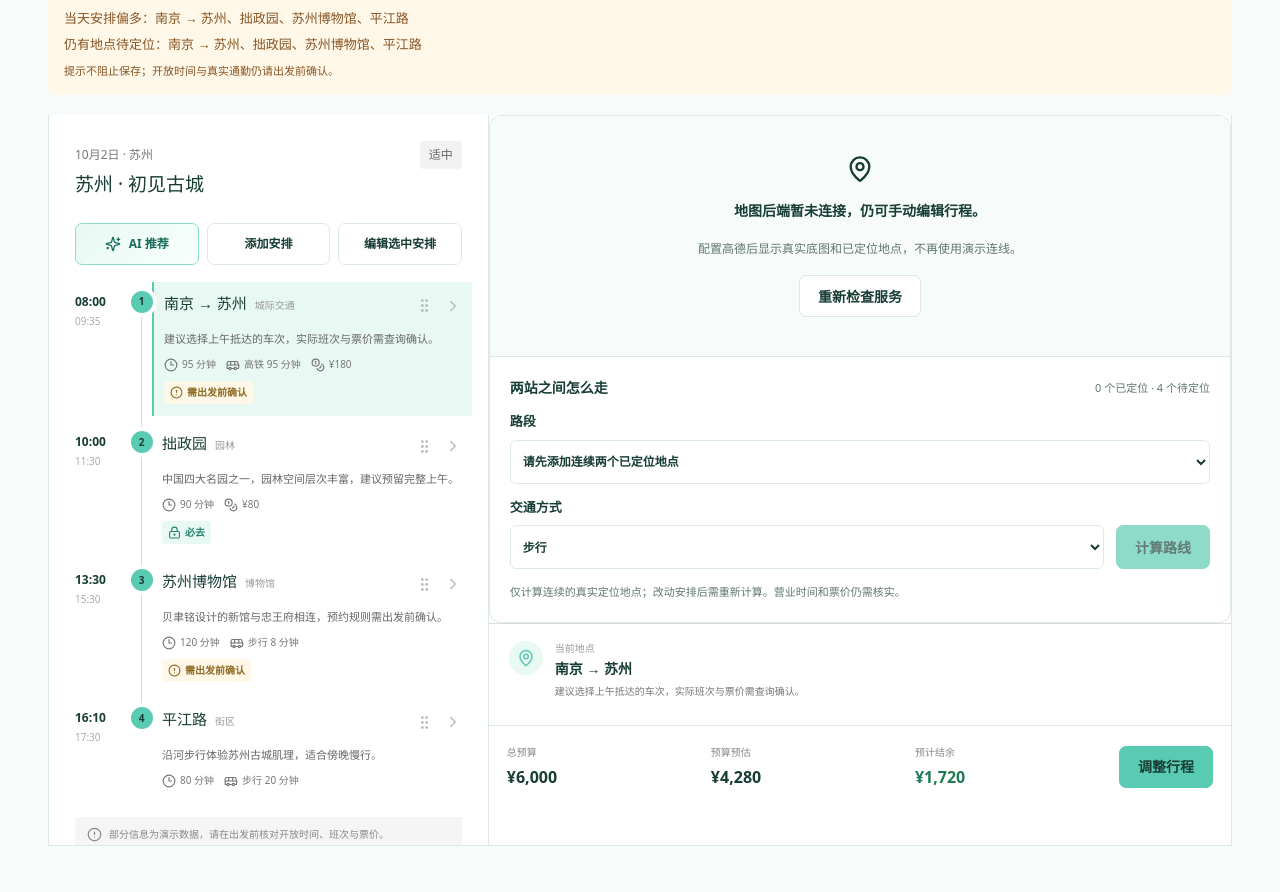
Test: 城市重排会关闭编辑器，避免替换错误的城市地点
This screenshot has width=1280, height=892.
(page scrolled)
Click the button "调整行程" at point(1166, 767), box [1119, 746, 1213, 788]
(page scrolled)
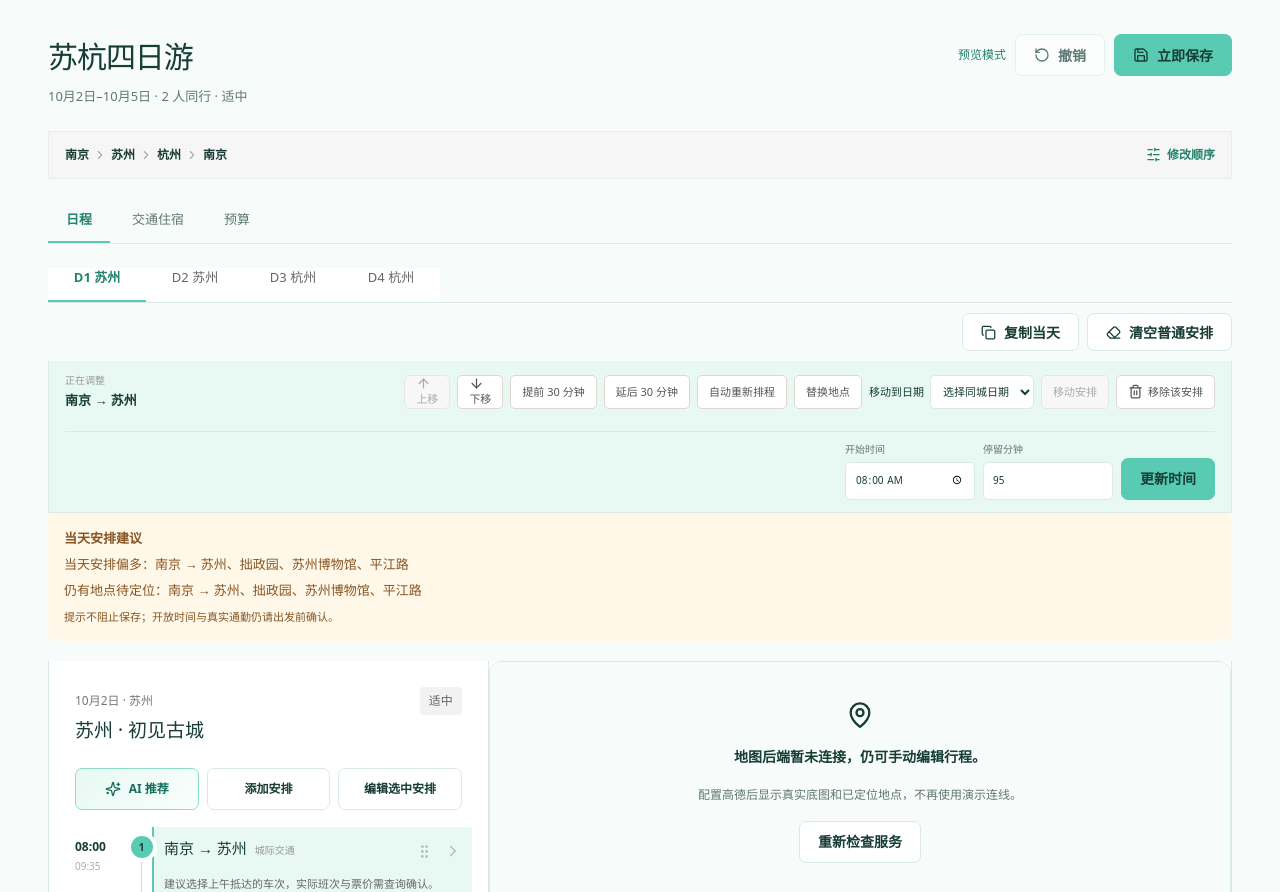
Click the button "替换地点" at point(828, 392), box [794, 375, 862, 409]
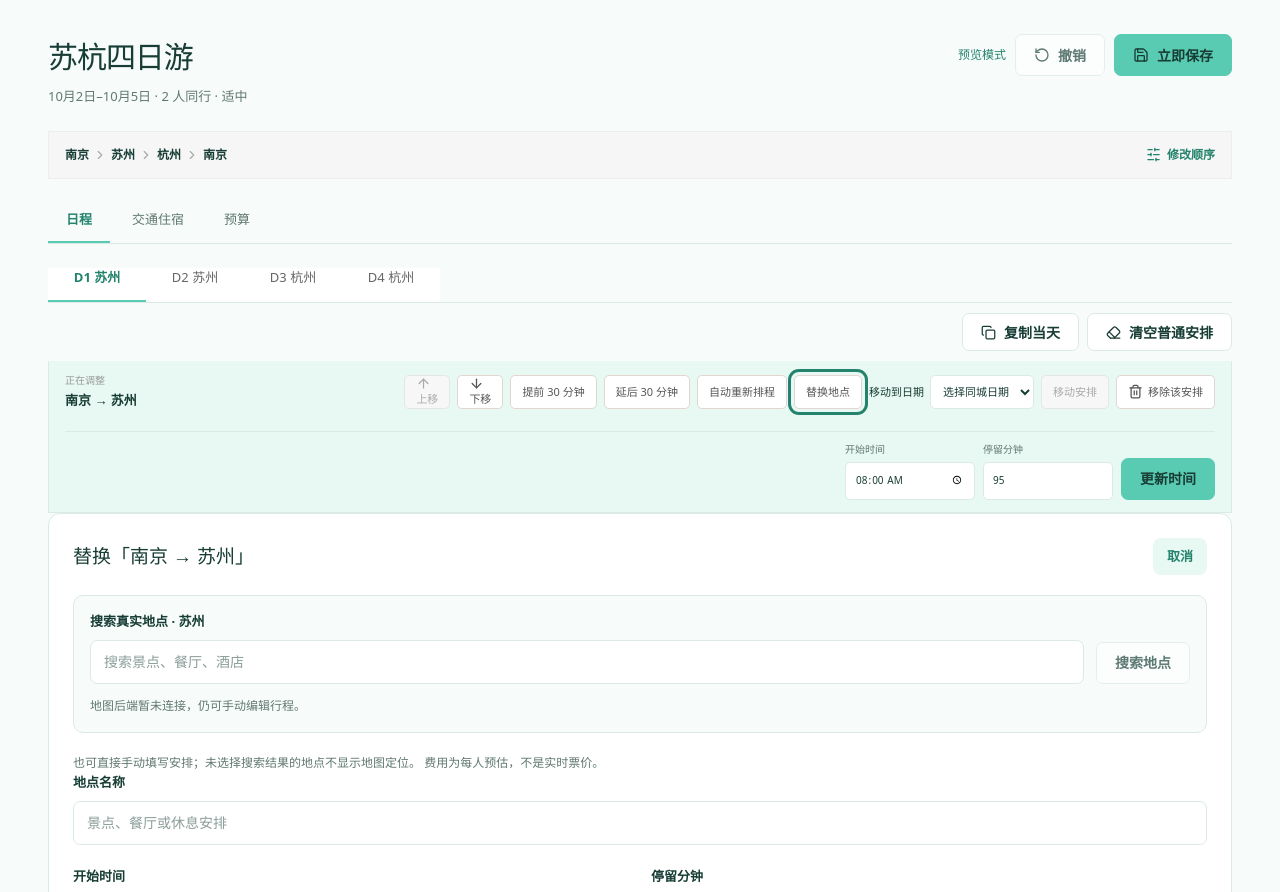
Type "苏州咖啡店" into the field labelled "地点名称" at point(640, 823), box [73, 801, 1207, 845]
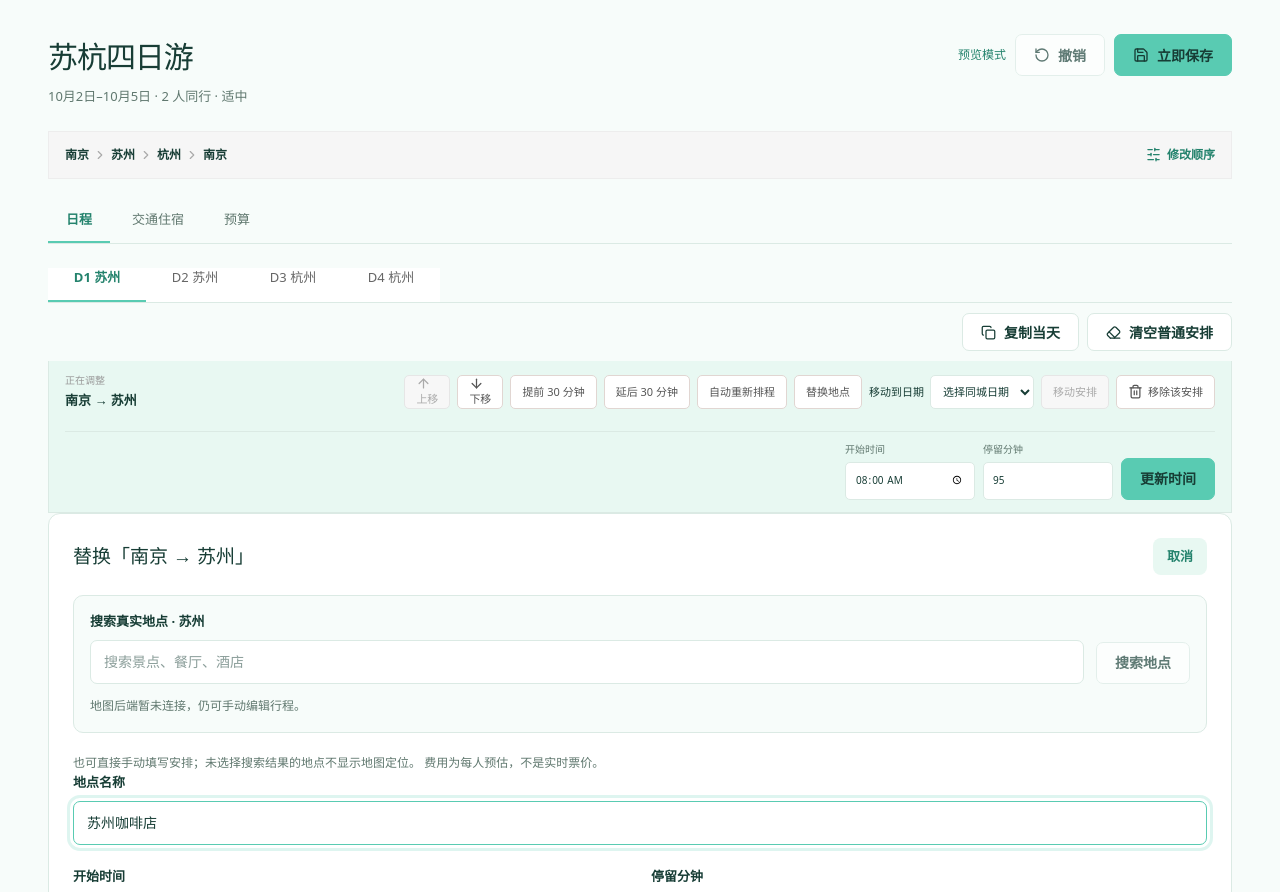
Click the button "修改顺序" at point(1180, 154), box [1146, 146, 1215, 164]
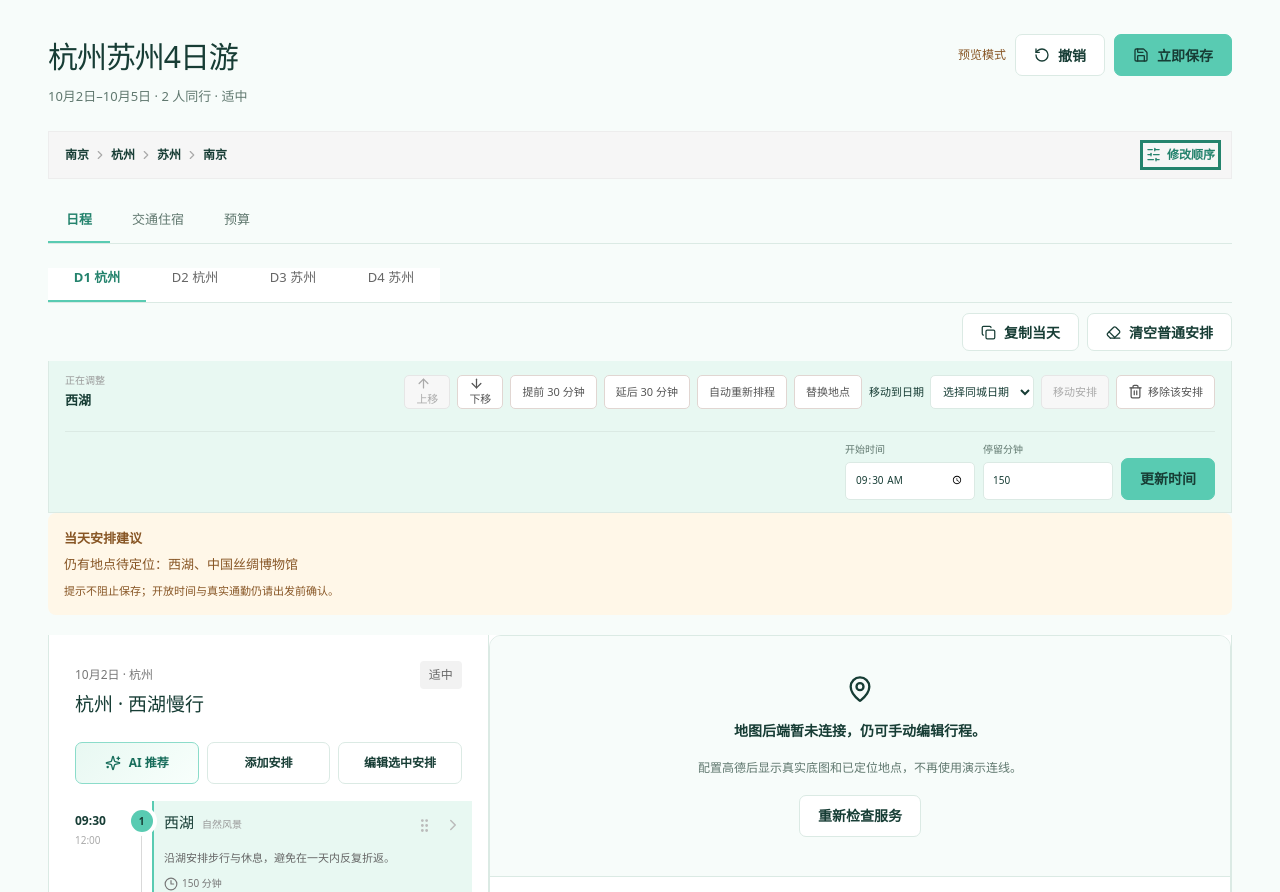
expect the heading "西湖" is shown: met, box [164, 812, 194, 832]
